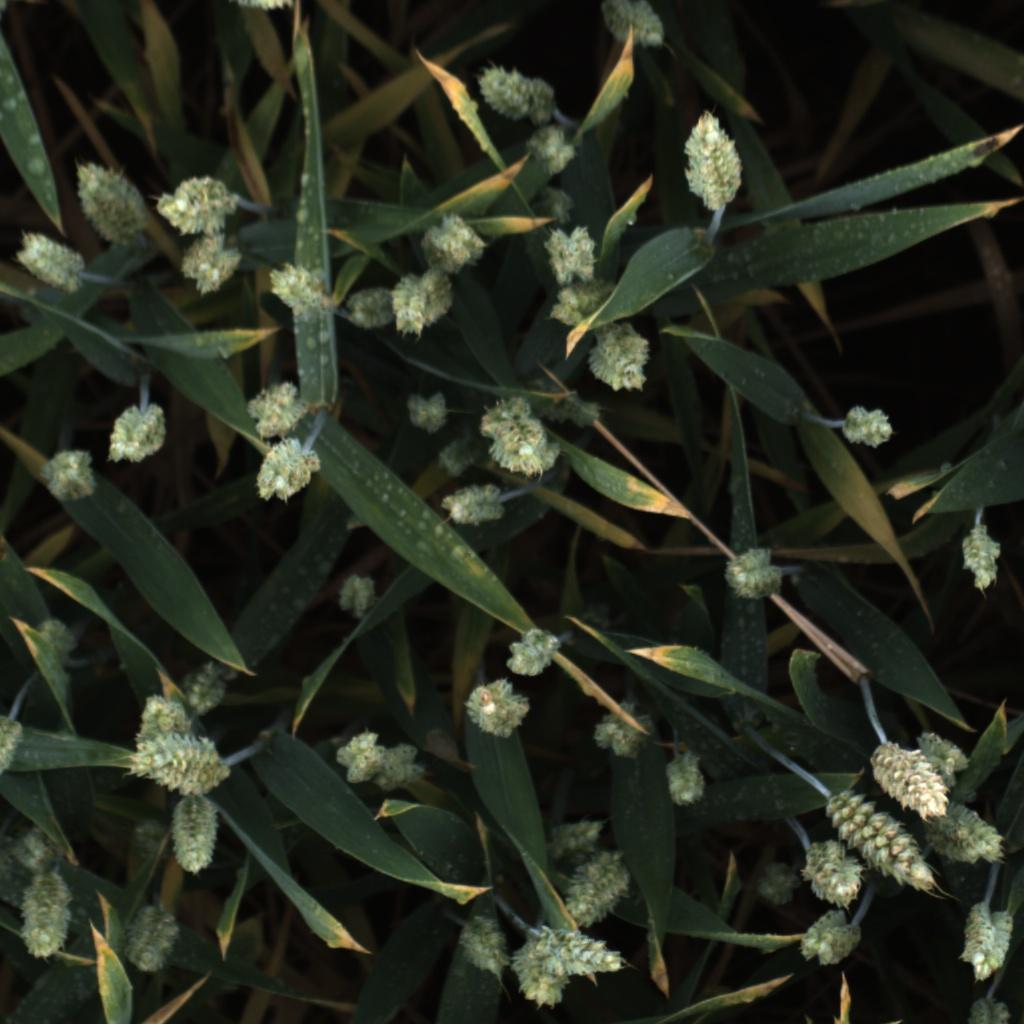0-0: (823, 789, 937, 896), (475, 388, 564, 479), (867, 735, 956, 818), (675, 111, 748, 209), (72, 158, 147, 245), (953, 896, 1022, 985), (153, 173, 247, 238), (249, 432, 326, 510), (165, 784, 228, 878), (473, 56, 558, 121), (125, 738, 226, 792), (564, 851, 629, 930), (540, 928, 626, 986), (11, 229, 86, 295), (512, 925, 567, 1015), (457, 676, 535, 738), (934, 800, 1007, 865), (120, 899, 180, 977), (801, 841, 865, 911), (128, 691, 205, 749), (389, 267, 453, 336), (102, 401, 169, 466), (419, 207, 486, 271), (592, 322, 653, 392), (458, 903, 512, 981), (35, 445, 103, 506), (174, 236, 241, 296), (594, 0, 671, 52), (589, 698, 653, 760), (722, 541, 784, 605), (791, 912, 863, 967), (23, 878, 70, 962), (245, 381, 307, 442), (957, 519, 1007, 594), (542, 226, 604, 282), (546, 812, 605, 870), (266, 260, 327, 316), (503, 624, 563, 680), (368, 739, 429, 794), (437, 483, 507, 530), (333, 724, 385, 787), (540, 380, 607, 428), (842, 398, 898, 455), (751, 854, 804, 910), (543, 284, 607, 330), (661, 753, 713, 809), (529, 120, 578, 177), (913, 729, 968, 779), (132, 816, 180, 873), (32, 608, 84, 660), (347, 279, 397, 333), (402, 386, 454, 436), (334, 571, 383, 622), (180, 658, 227, 711), (11, 829, 52, 876), (538, 180, 582, 223), (0, 710, 25, 781), (964, 994, 1023, 1024), (435, 438, 475, 481)
